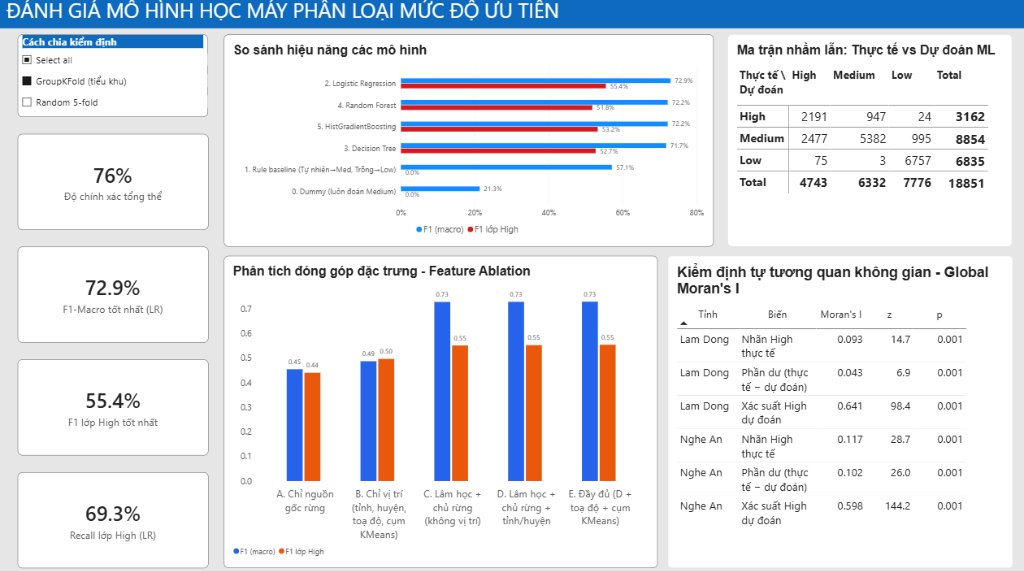

What the dashboard file says about the page in this screenshot:
{"tool":"powerbi","page":{"name":"Mô hình","canvas":[1920,1080],"ordinal":1},"visuals":[{"type":"shape","box":[0,0,1920,58.3],"z":0},{"type":"textbox","box":[14.8,0,1164.8,70.4],"z":1000},{"type":"card","fields":{"Values":["Max(redd model_comparison_cv.Recall lớp High)"]},"box":[35.2,883.3,354,178],"z":2000},{"type":"card","fields":{"Values":["Max(redd model_comparison_cv.F1 (macro))"]},"box":[35,464.7,354,178],"z":3000},{"type":"card","fields":{"Values":["redd fact_forest_points.Model_Accuracy"]},"box":[35,255.4,354,178],"z":4000},{"type":"pivotTable","title":"Ma trận nhầm lẫn: Thực tế vs Dự đoán ML","fields":{"Columns":["redd fact_forest_points.predicted_priority"],"Rows":["redd fact_forest_points.priority"],"Values":["CountNonNull(redd fact_forest_points.id)"]},"box":[1355.6,70.4,527.8,394.4],"z":5000},{"type":"clusteredBarChart","title":"So sánh hiệu năng các mô hình","fields":{"Category":["redd model_comparison_cv.Mô hình"],"Y":["Max(redd model_comparison_cv.F1 (macro))","Max(redd model_comparison_cv.F1 lớp High)"]},"box":[418.5,70.4,909.3,394.4],"z":6000},{"type":"clusteredColumnChart","title":"Phân tích đóng góp đặc trưng - Feature Ablation","fields":{"Category":["redd feature_ablation.Tập đặc trưng"],"Y":["Max(redd feature_ablation.F1 (macro))","Max(redd feature_ablation.F1 lớp High)"]},"box":[418.5,481.5,805.6,579.6],"z":7000},{"type":"card","fields":{"Values":["Max(redd model_comparison_cv.F1 lớp High)"]},"box":[35.1,674,354,178],"z":8000},{"type":"slicer","title":"Tỉnh","fields":{"Values":["redd model_comparison_cv.Chia CV"]},"box":[35.2,70.4,353.7,153.7],"z":9000},{"type":"tableEx","title":"Kiểm định tự tương quan không gian - Global Moran''s I","fields":{"Values":["redd spatial_morans_i.Tỉnh","redd spatial_morans_i.Biến","redd spatial_morans_i.Moran's I","redd spatial_morans_i.z (hoán vị)","redd spatial_morans_i.p (hoán vị)"]},"box":[1242.6,481.5,640.7,579.6],"z":10000}]}

Visuals, with their boxes in screenshot pixels (x1, y1, x2, y2), scaled from the page's 1920x1080 canvas onto the 1024x571 screenshot:
shape: x1=0, y1=0, x2=1023, y2=31
textbox: x1=8, y1=0, x2=629, y2=37
card - Max(redd model_comparison_cv.Recall lớp High): x1=19, y1=467, x2=208, y2=561
card - Max(redd model_comparison_cv.F1 (macro)): x1=19, y1=246, x2=207, y2=340
card - redd fact_forest_points.Model_Accuracy: x1=19, y1=135, x2=207, y2=229
"Ma trận nhầm lẫn: Thực tế vs Dự đoán ML" pivotTable: x1=723, y1=37, x2=1004, y2=246
"So sánh hiệu năng các mô hình" clusteredBarChart: x1=223, y1=37, x2=708, y2=246
"Phân tích đóng góp đặc trưng - Feature Ablation" clusteredColumnChart: x1=223, y1=255, x2=653, y2=561
card - Max(redd model_comparison_cv.F1 lớp High): x1=19, y1=356, x2=208, y2=450
"Tỉnh" slicer: x1=19, y1=37, x2=207, y2=118
"Kiểm định tự tương quan không gian - Global Moran''s I" tableEx: x1=663, y1=255, x2=1004, y2=561
